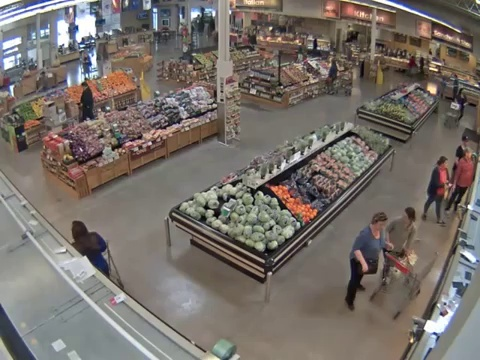face: (375, 218, 386, 231), (401, 210, 412, 223), (442, 160, 449, 166)
